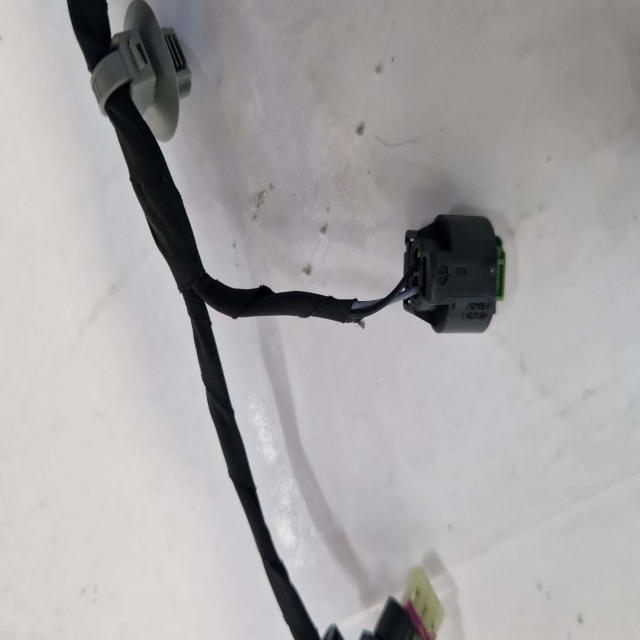Clip: (91, 1, 192, 143)
Connector: (402, 218, 505, 336)
Gape: (343, 258, 417, 342)
MHEV_N11_Cable: (105, 84, 351, 635), (67, 0, 111, 78)
